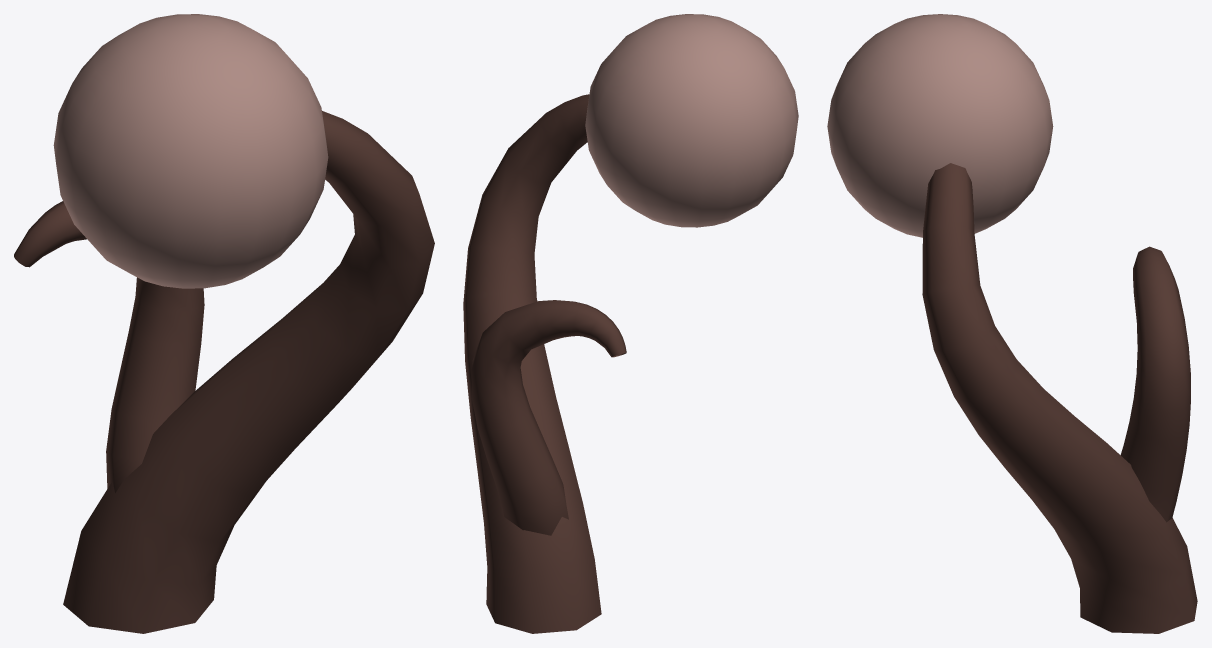
File: n_tree_light_2.glb
3 renders of one model, left to right at view 1: azimuth 30°, elevation 25°; view 2: azimuth 150°, elevation 25°; view 3: azimuth 270°, elevation 25°, orthographic. The views are drawn at different scales.
Visible parts, largest first — view 1: Tree_Light_2; view 2: Tree_Light_2; view 3: Tree_Light_2.
Boxes of the visible parts, x1,y1,x2,y2 form: Tree_Light_2: (14,14,434,633); Tree_Light_2: (463,14,798,633); Tree_Light_2: (827,14,1197,633).
Bounding box in the file's own units: 1.44 × 2.51 × 1.51.
1 material, 1 textured.
